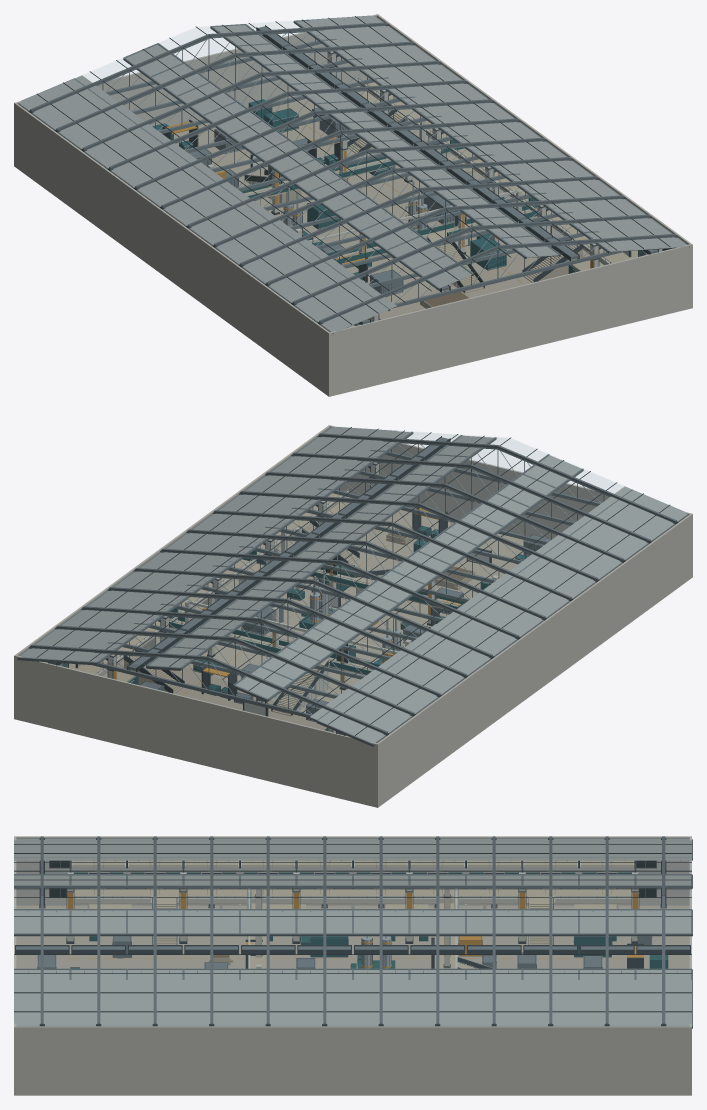
Rendered from yard.glb.
The picture shows the model from 3 angles, top to bottom: view 1: azimuth 30°, elevation 25°; view 2: azimuth 150°, elevation 25°; view 3: azimuth 270°, elevation 25°; orthographic projection. The views are drawn at different scales.
Parts seen in each view (by area): view 1: yard_detail, yard_structure, yard_glazing; view 2: yard_detail, yard_structure, yard_glazing; view 3: yard_detail, yard_structure.
Part boxes in pixels (x1,y1,x2,y2): yard_detail: (18, 15, 689, 334); yard_structure: (14, 14, 692, 396); yard_glazing: (20, 15, 685, 331); yard_detail: (17, 427, 688, 746); yard_structure: (14, 425, 692, 807); yard_glazing: (21, 426, 686, 742); yard_detail: (14, 836, 692, 1028); yard_structure: (14, 836, 691, 1095).
Size of what is drawn, in the model's own units: 72 by 18.57 by 108.
